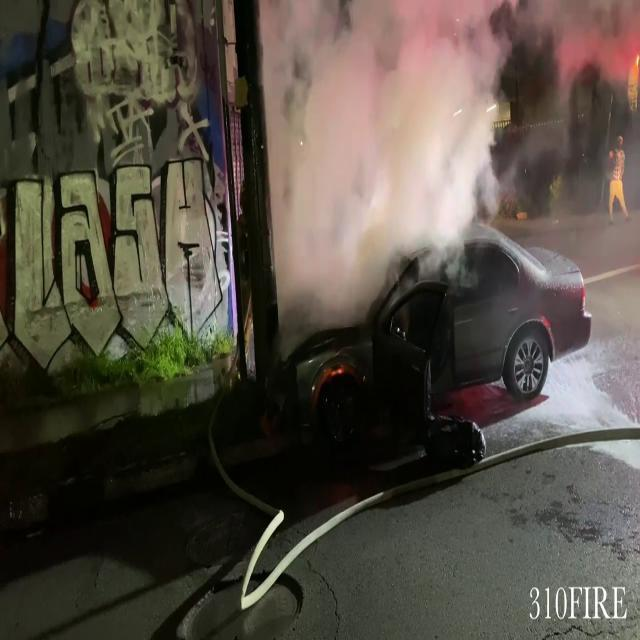Smoke: (261, 0, 624, 284)
